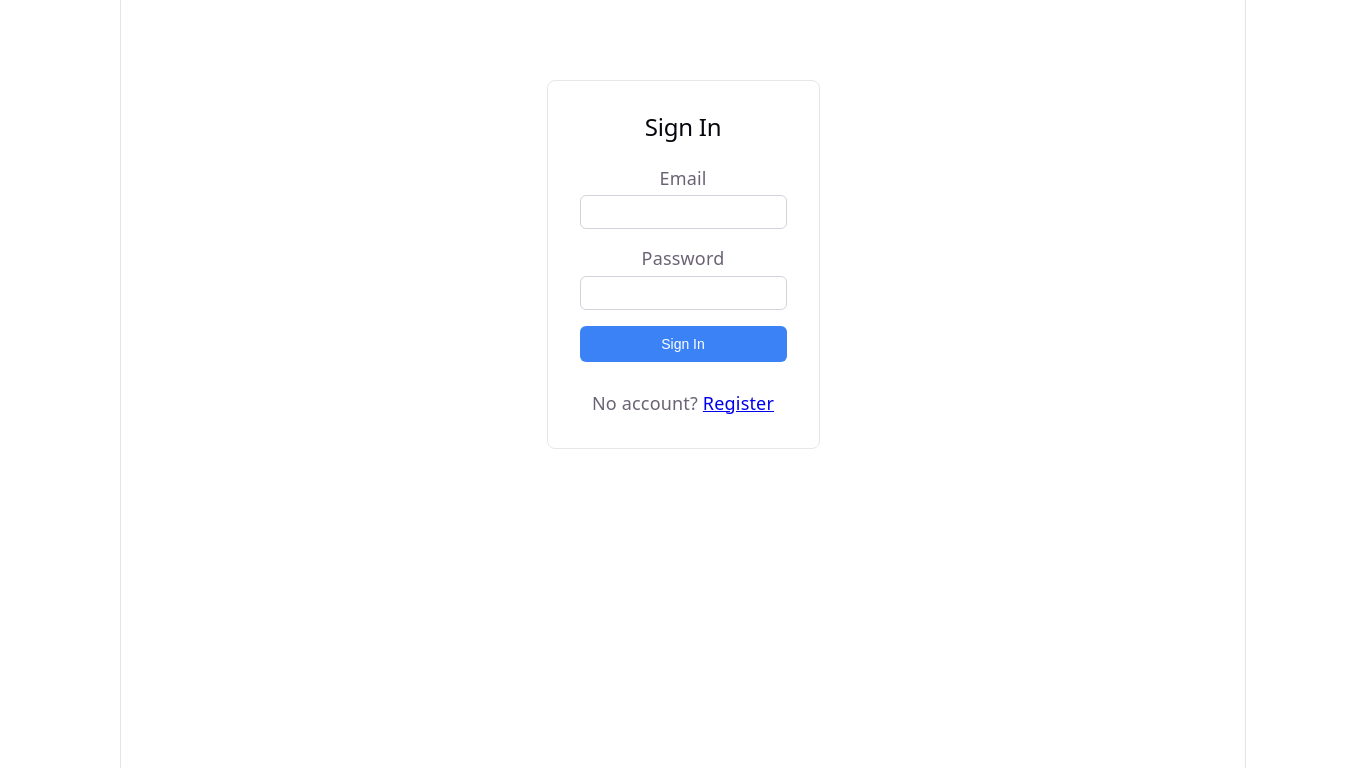
Test: LoginForm › shows validation error for invalid email
Type "not-an-email" into the field labelled "Email" at point(683, 212), box [580,195,786,229]
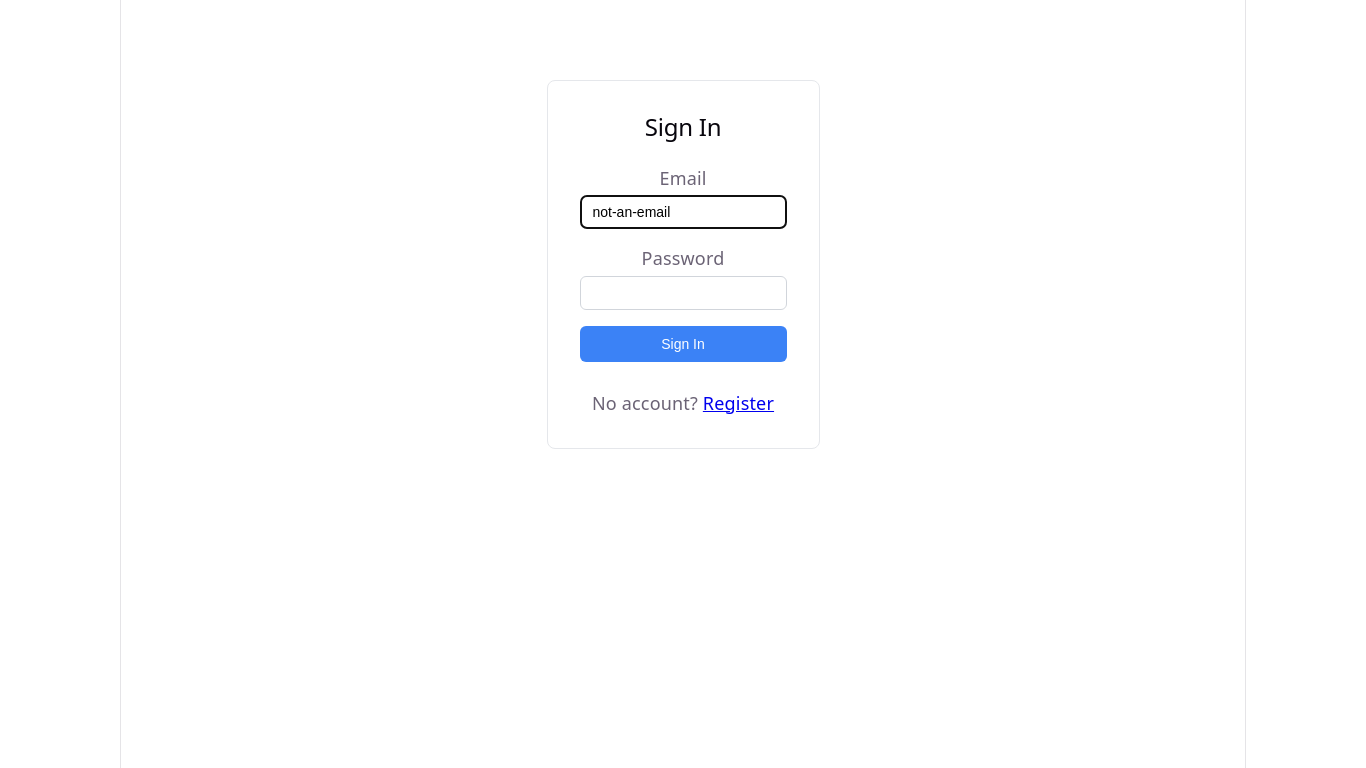
Click the button "Sign In" at point(683, 344), box [580,326,786,362]
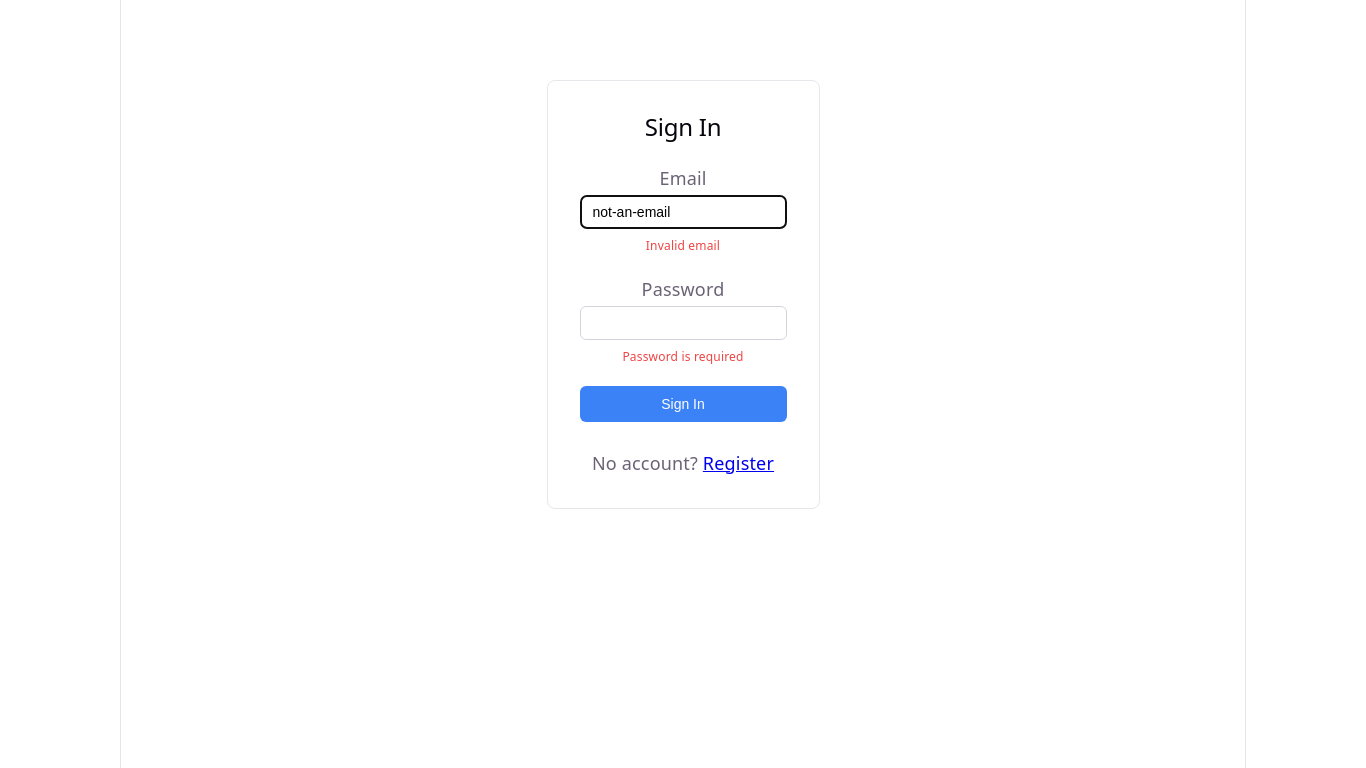
Result: the text "Invalid email" is shown at [646,237,720,254]
